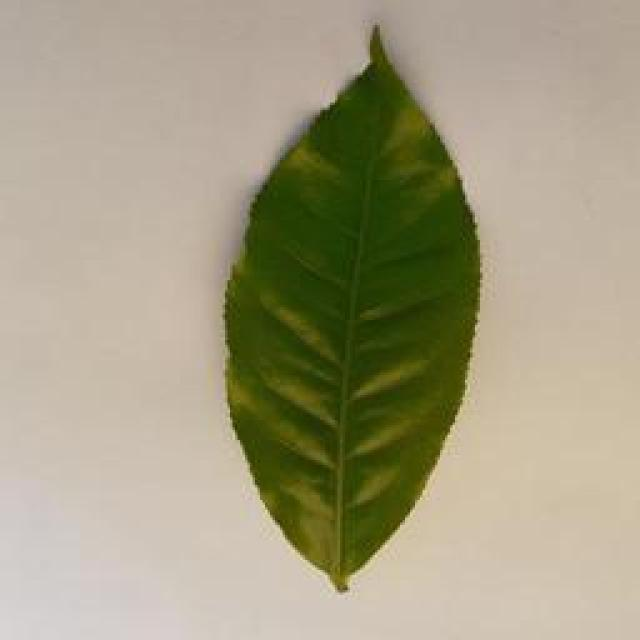Healthy: (224, 16, 486, 592)
